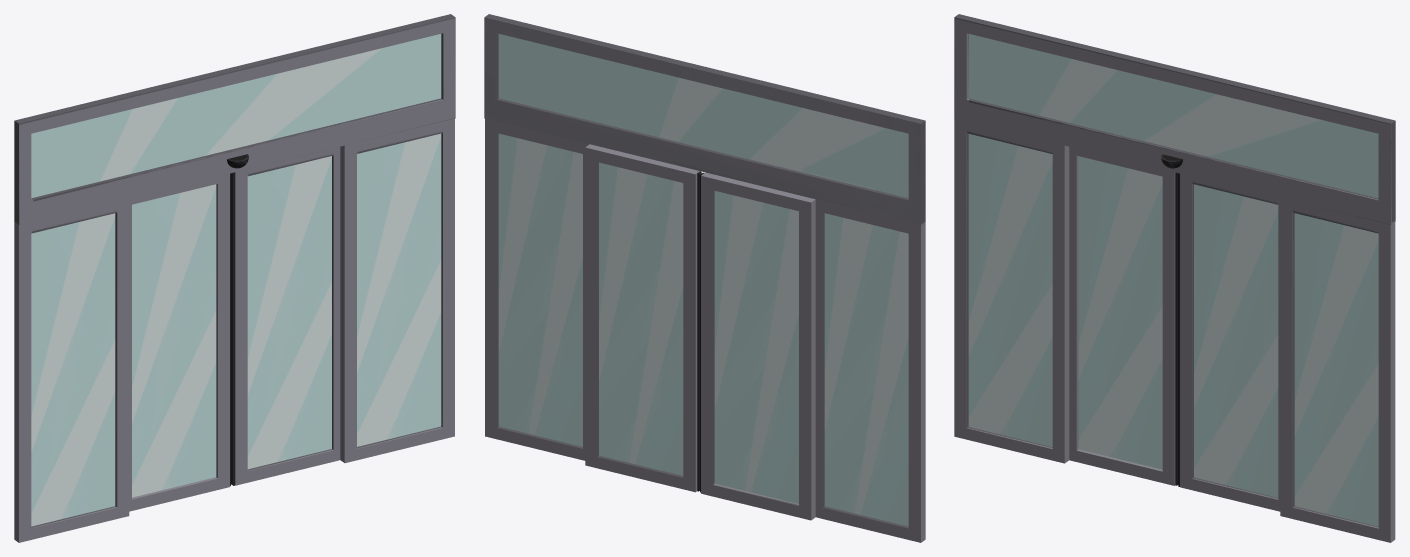
Rendered from Sliding-door - Copy.fbx.
The picture shows the model from 3 angles, left to right: view 1: azimuth 30°, elevation 25°; view 2: azimuth 150°, elevation 25°; view 3: azimuth 330°, elevation 25°; orthographic projection.
Visible parts, largest first — view 1: Sliding door, Sliding door_03, Sliding door_04, Sliding door_01, Sliding door_02; view 2: Sliding door, Sliding door_02, Sliding door_01, Sliding door_03, Sliding door_04; view 3: Sliding door, Sliding door_04, Sliding door_03, Sliding door_02, Sliding door_01.
Part boxes in pixels (x1=…): Sliding door: x1=14, y1=14, x2=455, y2=224; Sliding door_03: x1=14, y1=198, x2=129, y2=542; Sliding door_04: x1=340, y1=118, x2=454, y2=463; Sliding door_01: x1=231, y1=147, x2=340, y2=485; Sliding door_02: x1=129, y1=173, x2=231, y2=511; Sliding door: x1=484, y1=14, x2=925, y2=224; Sliding door_02: x1=700, y1=172, x2=815, y2=520; Sliding door_01: x1=585, y1=144, x2=701, y2=492; Sliding door_03: x1=815, y1=199, x2=925, y2=542; Sliding door_04: x1=485, y1=118, x2=589, y2=460; Sliding door: x1=954, y1=14, x2=1395, y2=224; Sliding door_04: x1=1280, y1=198, x2=1395, y2=542; Sliding door_03: x1=954, y1=118, x2=1069, y2=463; Sliding door_02: x1=1069, y1=146, x2=1177, y2=485; Sliding door_01: x1=1178, y1=173, x2=1280, y2=511.
Bounding box in the file's own units: 560 × 514 × 32.81.
